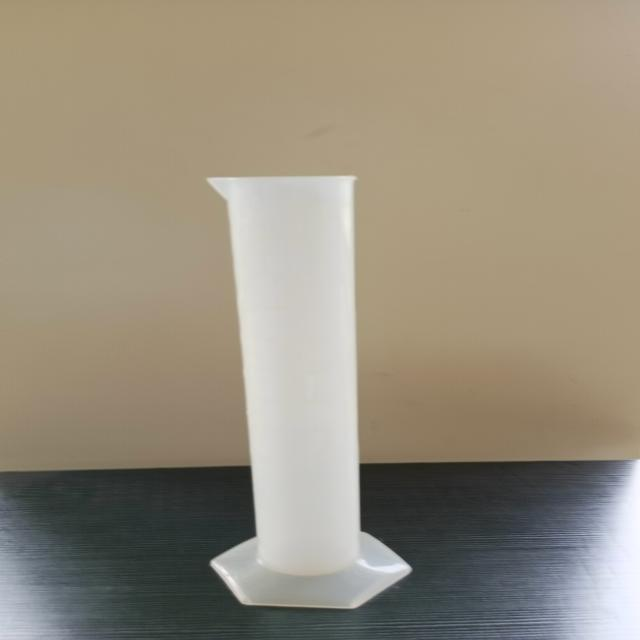graduated_cylinder: (184, 165, 419, 612)
